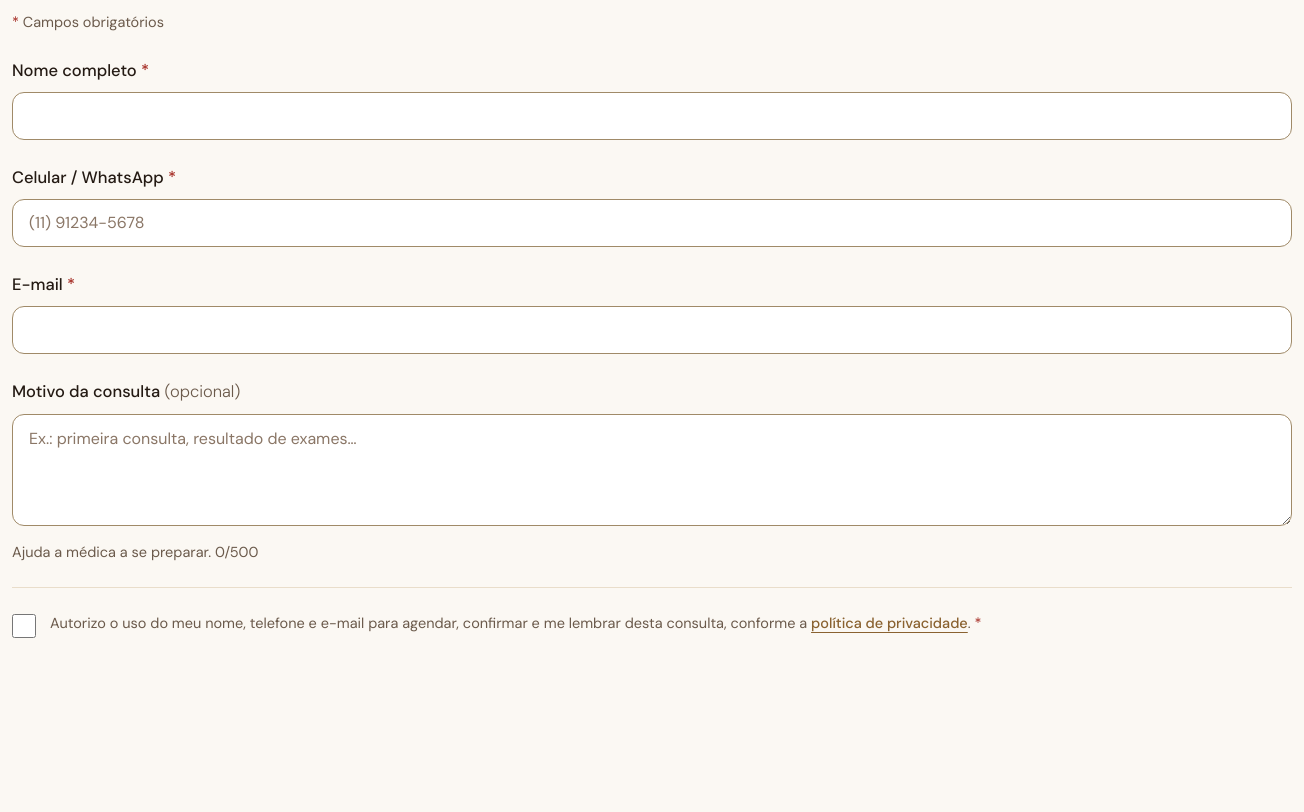
<FormularioDados> › máscara o telefone enquanto digita
Type "11998053826" into the field labelled "Celular / WhatsApp *". click: [652, 223]
box: x1=12 y1=199 x2=1292 y2=247
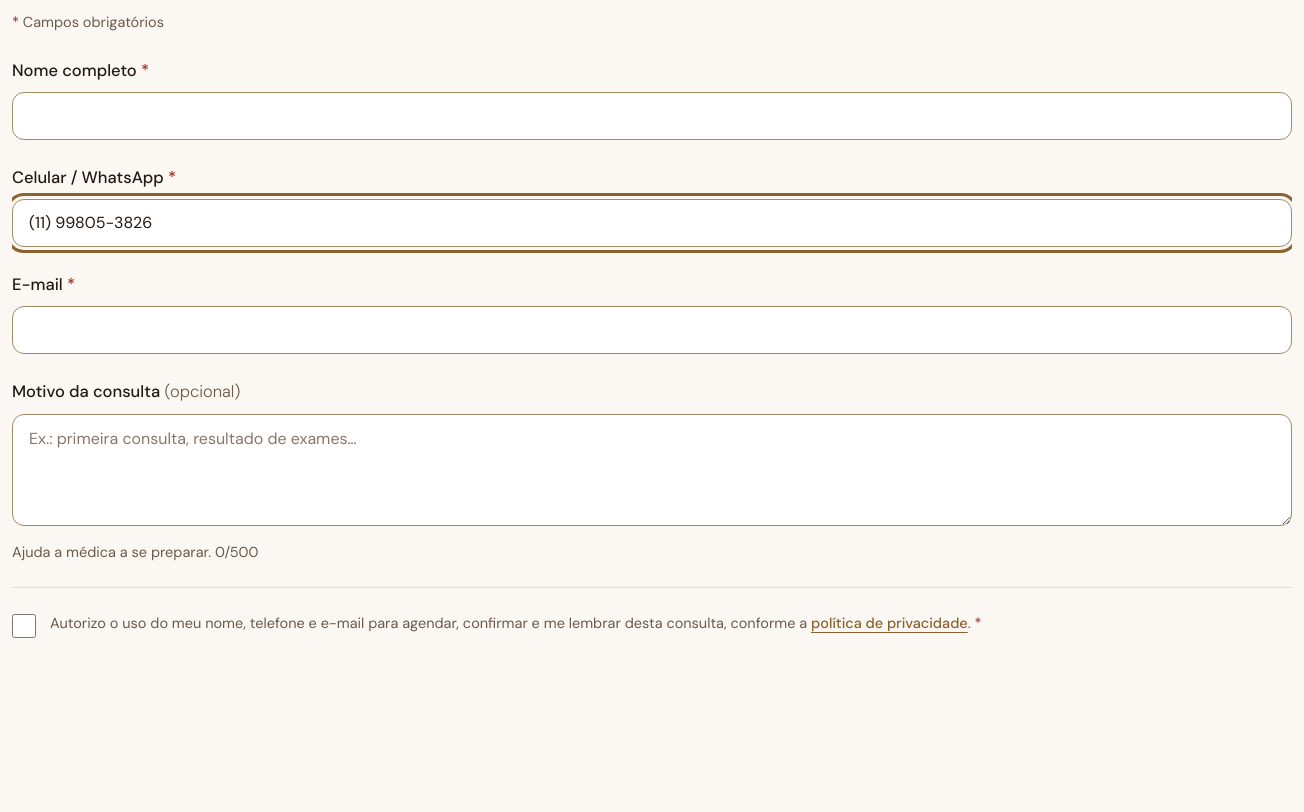
Check: the field labelled "Celular / WhatsApp *" holds "(11) 99805-3826", box x1=12 y1=199 x2=1292 y2=247
